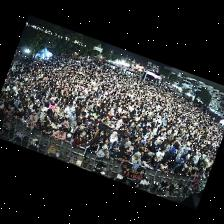person: (82, 141, 100, 162), (152, 149, 164, 169), (72, 132, 86, 146), (148, 140, 159, 157), (118, 142, 131, 156), (117, 148, 130, 162), (174, 155, 186, 170), (52, 128, 66, 140), (97, 146, 109, 158), (169, 144, 180, 156), (132, 144, 143, 156), (43, 122, 53, 135), (141, 155, 151, 168), (159, 161, 168, 175), (85, 129, 94, 143), (123, 127, 133, 139), (65, 103, 73, 118), (131, 153, 141, 165), (165, 141, 173, 156), (68, 121, 77, 134), (94, 130, 103, 143), (109, 146, 117, 160), (109, 132, 117, 146), (100, 138, 110, 149), (68, 112, 76, 125), (6, 105, 14, 118), (120, 137, 130, 147), (50, 113, 60, 123), (174, 164, 183, 175), (143, 138, 152, 149), (13, 108, 22, 119), (40, 109, 47, 123), (22, 112, 29, 126), (113, 142, 120, 156), (176, 150, 183, 164), (51, 120, 59, 132), (30, 110, 37, 123), (85, 115, 93, 126), (60, 114, 68, 125), (49, 100, 56, 112), (98, 120, 106, 130), (193, 154, 200, 165), (191, 167, 198, 177), (61, 122, 68, 132), (57, 107, 63, 118), (80, 126, 86, 137), (65, 134, 73, 142), (116, 120, 122, 130), (44, 116, 51, 124), (120, 177, 128, 184), (196, 169, 203, 177)
